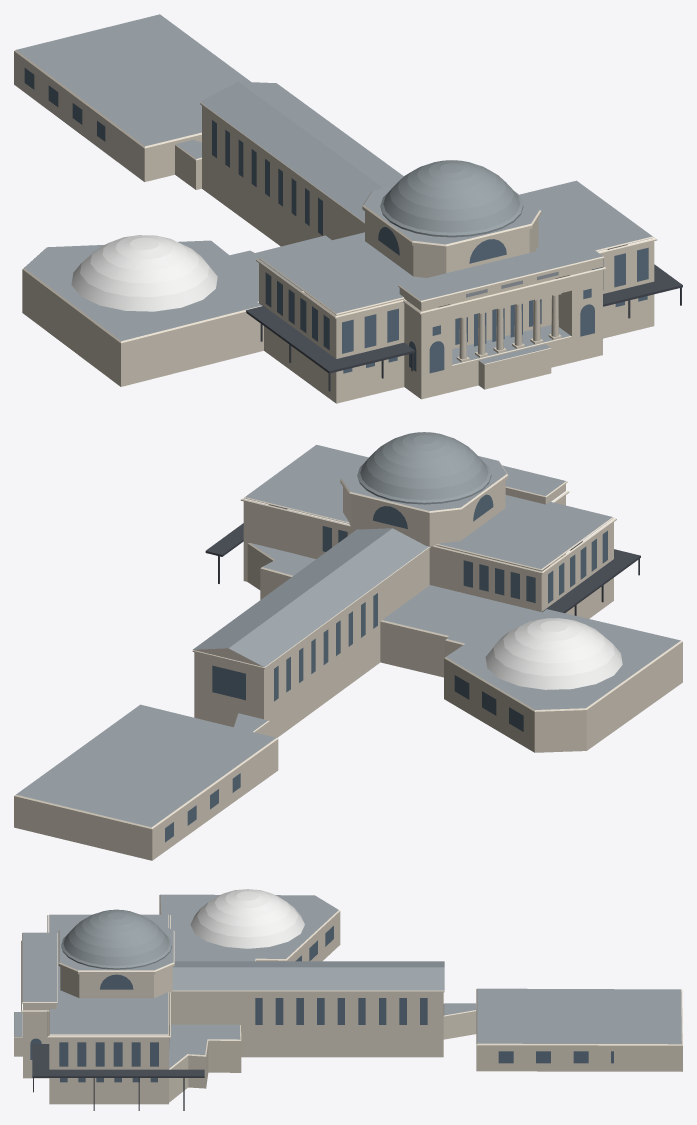
File: ric-science-museum.glb
3 renders of one model, top to bottom at view 1: azimuth 30°, elevation 25°; view 2: azimuth 150°, elevation 25°; view 3: azimuth 270°, elevation 25°, orthographic. The views are drawn at different scales.
Parts seen in each view (by area): view 1: Science Museum of Virginia; view 2: Science Museum of Virginia; view 3: Science Museum of Virginia.
Part boxes in pixels (x1,y1,x2,y2): Science Museum of Virginia: (14,14,682,403); Science Museum of Virginia: (14,432,682,860); Science Museum of Virginia: (14,889,682,1110).
Size of the model in its own units: 115 by 37.9 by 179.
